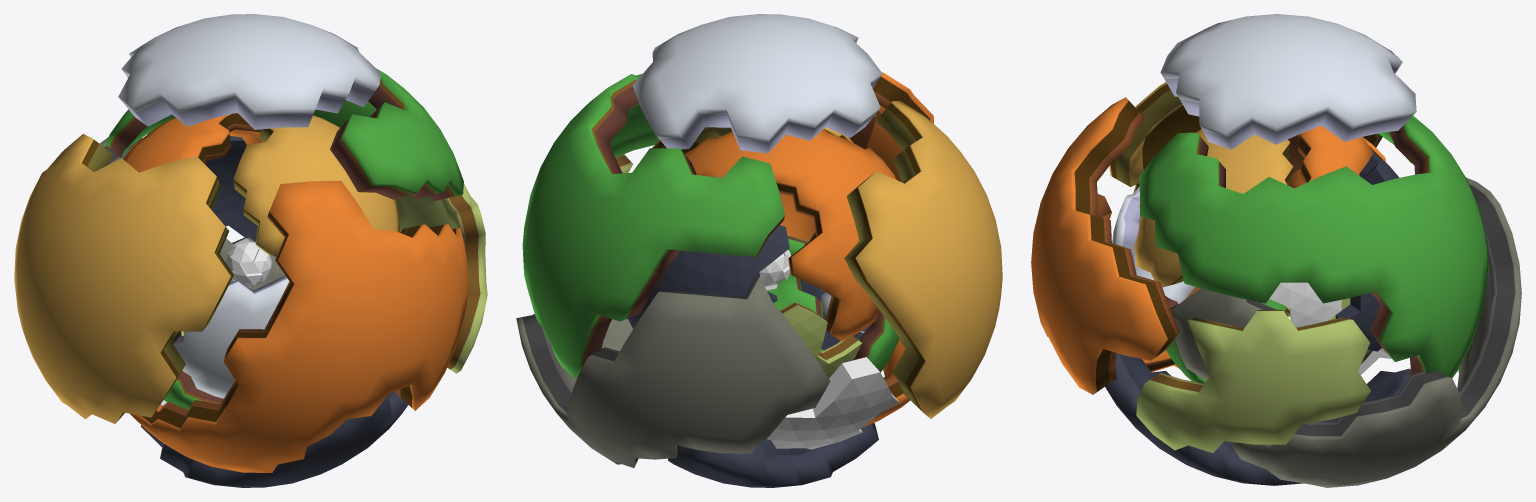
File: test EARTH.fbx
3 views of the same model, side by side, from view 1: azimuth 30°, elevation 25°; view 2: azimuth 150°, elevation 25°; view 3: azimuth 270°, elevation 25° (orthographic).
Parts seen in each view (by area): view 1: 3auttom, 1summer, north, 2spring, 1summer.001, south, north.001, 棱角球.005, 3auttom.001, south.001, 棱角球, 2spring.001 (+1 smaller); view 2: 2spring, 4ruin, 1summer, north, 3auttom.001, south, 棱角球.007, south.001, 3auttom, 2spring.001, 棱角球.002, 棱角球 (+1 smaller); view 3: 2spring, north, 3auttom, 棱角球.005, 4ruin, south, 1summer.001, 1summer, 3auttom.001, 4ruin.001, south.001, 棱角球.001 (+2 smaller).
Boxes of the visible parts, left/top/right/bottom form: 3auttom: left=130, top=181, right=468, bottom=472; 1summer: left=14, top=134, right=233, bottom=423; north: left=118, top=14, right=380, bottom=129; 2spring: left=105, top=69, right=463, bottom=201; 1summer.001: left=233, top=115, right=400, bottom=255; south: left=141, top=391, right=408, bottom=487; north.001: left=173, top=275, right=289, bottom=398; 棱角球.005: left=396, top=183, right=487, bottom=373; 3auttom.001: left=123, top=112, right=262, bottom=172; south.001: left=205, top=136, right=277, bottom=256; 棱角球: left=226, top=238, right=272, bottom=287; 2spring.001: left=164, top=331, right=223, bottom=410; 2spring: left=522, top=73, right=784, bottom=378; 4ruin: left=516, top=277, right=830, bottom=467; 1summer: left=844, top=100, right=1002, bottom=418; north: left=632, top=14, right=882, bottom=153; 3auttom.001: left=685, top=129, right=896, bottom=341; south: left=668, top=279, right=878, bottom=487; 棱角球.007: left=766, top=357, right=899, bottom=449; south.001: left=627, top=225, right=789, bottom=328; 3auttom: left=780, top=72, right=933, bottom=426; 2spring.001: left=767, top=236, right=899, bottom=372; 棱角球.002: left=780, top=302, right=861, bottom=378; 棱角球: left=759, top=250, right=790, bottom=290; 2spring: left=1139, top=115, right=1488, bottom=378; north: left=1160, top=14, right=1416, bottom=149; 3auttom: left=1031, top=97, right=1200, bottom=394; 棱角球.005: left=1136, top=310, right=1370, bottom=452; 4ruin: left=1232, top=177, right=1521, bottom=487; south: left=1105, top=353, right=1410, bottom=485; 1summer.001: left=1134, top=131, right=1292, bottom=287; 1summer: left=1109, top=82, right=1382, bottom=192; 3auttom.001: left=1197, top=125, right=1386, bottom=188; 4ruin.001: left=1170, top=288, right=1372, bottom=380; south.001: left=1335, top=153, right=1399, bottom=351; 棱角球.001: left=1269, top=282, right=1341, bottom=327.
Bounding box in the file's own units: 665 × 659 × 673.
